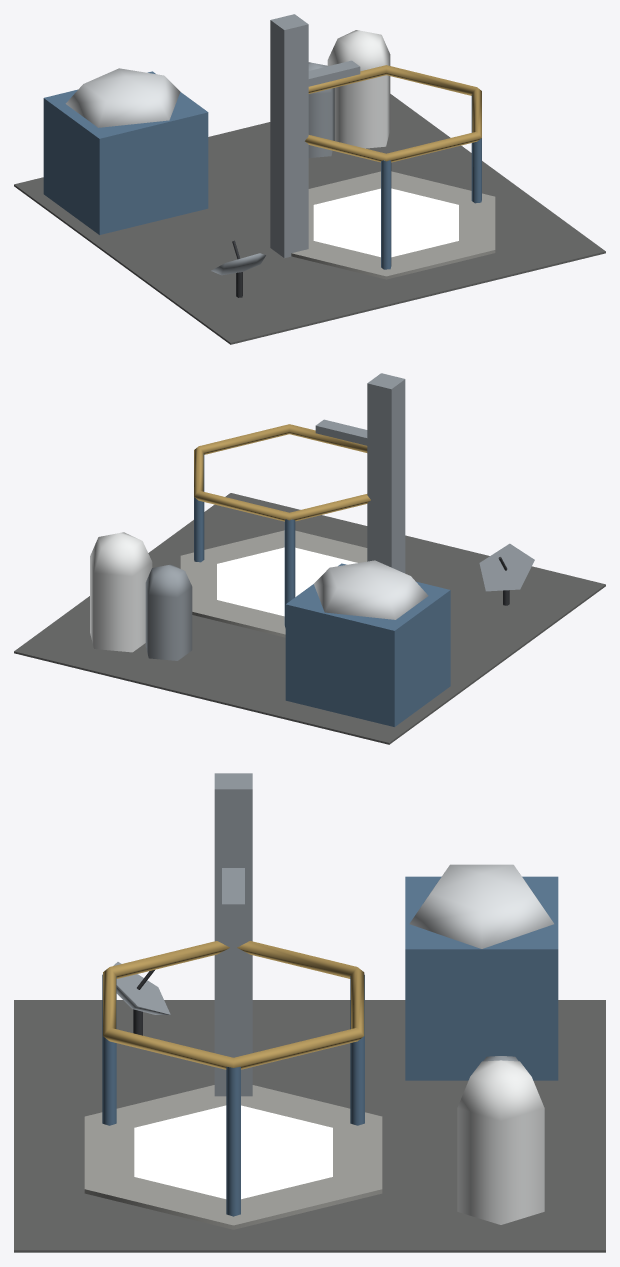
The model's file is bld_special_spaceport_a10_lod2.glb.
The picture shows the model from 3 angles, top to bottom: view 1: azimuth 30°, elevation 25°; view 2: azimuth 150°, elevation 25°; view 3: azimuth 270°, elevation 25°; orthographic projection. The views are drawn at different scales.
Visible parts, largest first — view 1: body, gantry, antenna; view 2: body, gantry, antenna; view 3: body, gantry, antenna.
Boxes of the visible parts, <box> form: body: <box>14,30,605,344</box>; gantry: <box>270,14,360,258</box>; antenna: <box>211,240,265,297</box>; body: <box>14,424,605,744</box>; gantry: <box>315,373,405,573</box>; antenna: <box>479,543,534,605</box>; body: <box>14,864,605,1252</box>; gantry: <box>214,773,252,1096</box>; antenna: <box>113,962,170,1035</box>.
Bounding box in the file's own units: 31 × 18.15 × 31.
